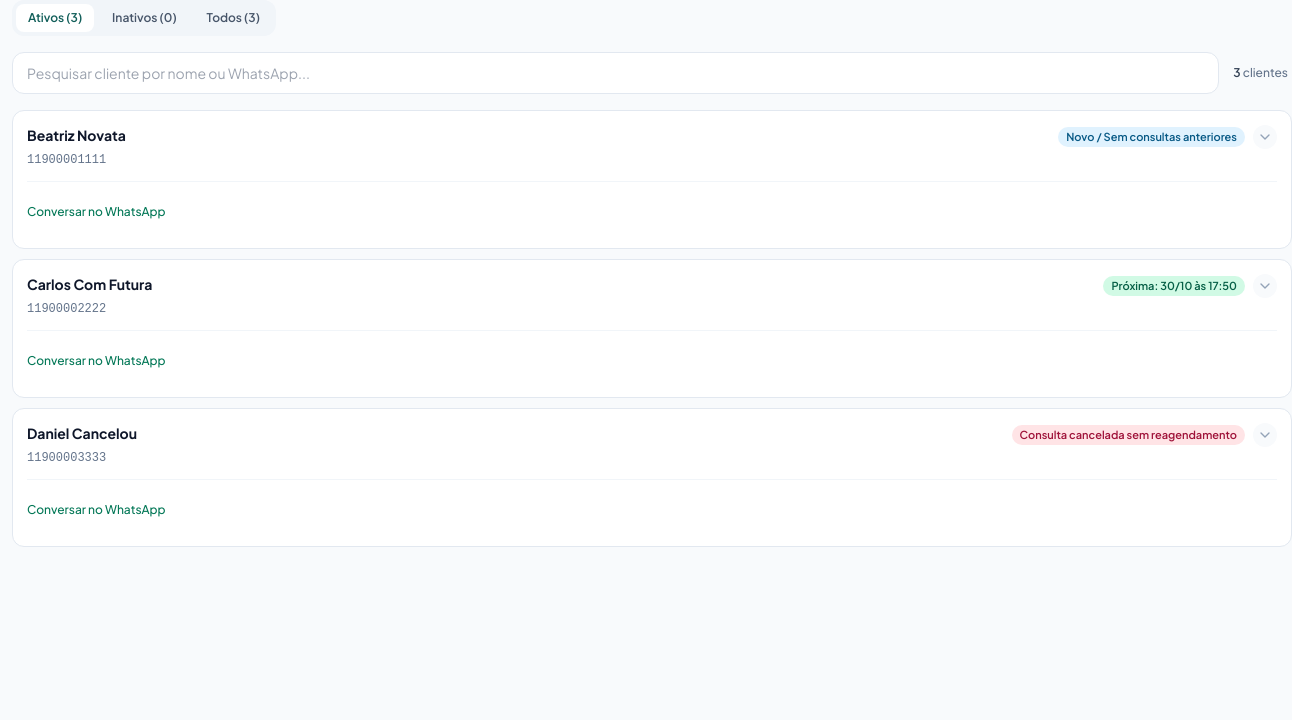
Test: Sprint FE-2: Agenda de Atendimentos e Gestão de Clientes › AC-063: Lista de Clientes com Indicadores de Histórico e Consultas Futuras @spec:AC-063
Expected: the text "Novo / Sem consultas anteriores" is shown, [1058,127,1245,147]
Expected: the text "Próxima: 30/10 às 17:50" is shown, [1103,276,1245,296]
// Valida filtro de busca por nome
Type "Novata" into the field named "Buscar clientes" at (616, 73), box [12,52,1219,94]
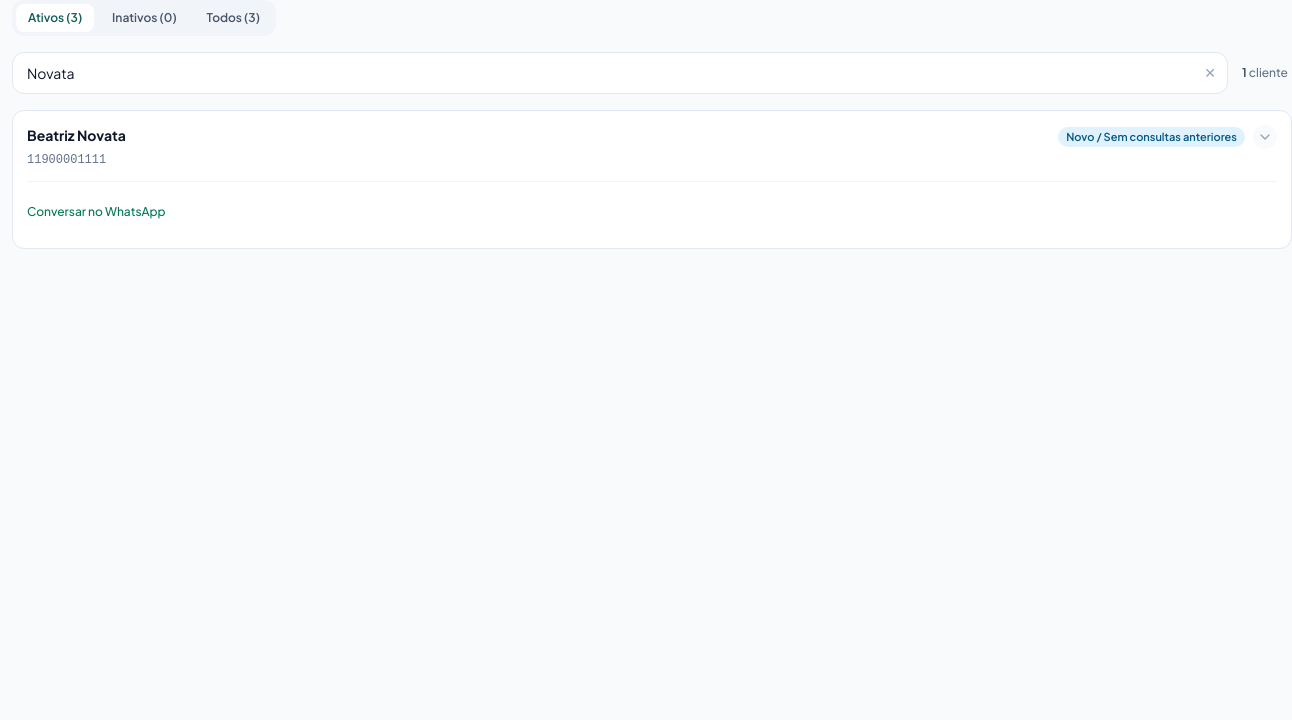
Expected: the heading "Beatriz Novata" is shown, [27,125,126,145]
Result: the heading "Carlos Com Futura" is gone
